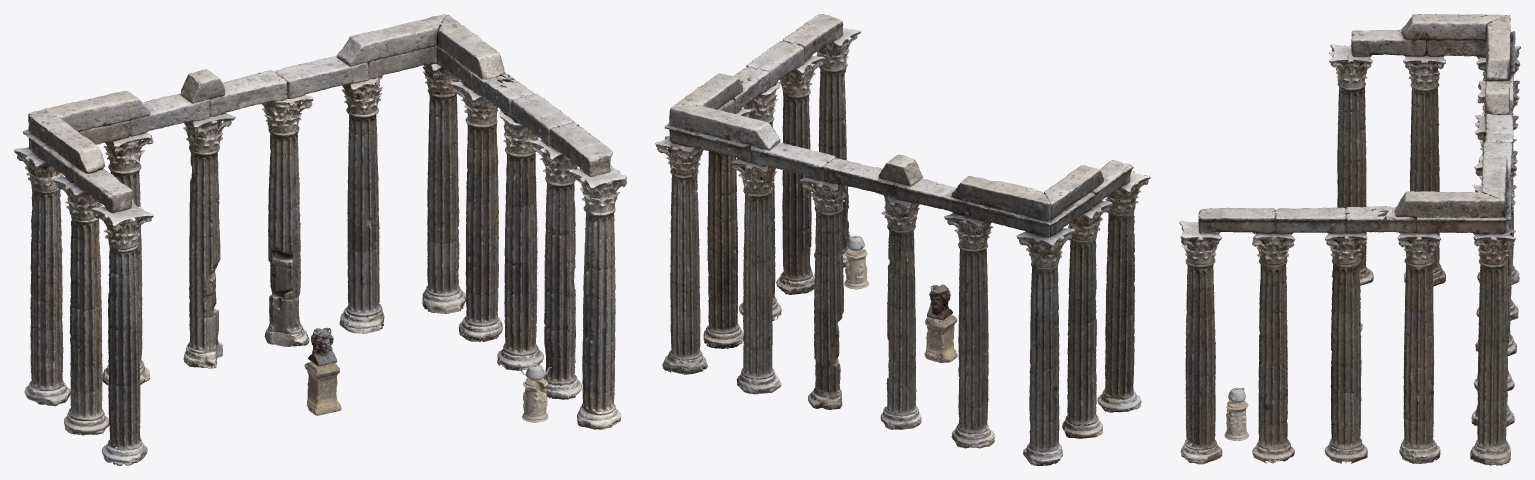
File: evora.gltf
3 views of the same model, side by side, from view 1: azimuth 30°, elevation 25°; view 2: azimuth 150°, elevation 25°; view 3: azimuth 270°, elevation 25° (orthographic). The views are drawn at different scales.
Visible parts, largest first — view 1: evora, plinth1, plinth2, janus; view 2: evora, plinth1, plinth2, janus; view 3: evora, plinth2.
Boxes of the visible parts, <box> form: evora: <box>14,14,626,465</box>; plinth1: <box>304,361,341,415</box>; plinth2: <box>522,378,548,422</box>; janus: <box>308,327,337,366</box>; evora: <box>655,14,1150,465</box>; plinth1: <box>924,314,957,363</box>; plinth2: <box>844,249,868,289</box>; janus: <box>927,284,952,320</box>; evora: <box>1179,14,1520,465</box>; plinth2: <box>1224,400,1248,440</box>.
Bounding box in the file's own units: 15.82 × 9.8 × 11.6.
Materials: 12 (12 with a texture image).
